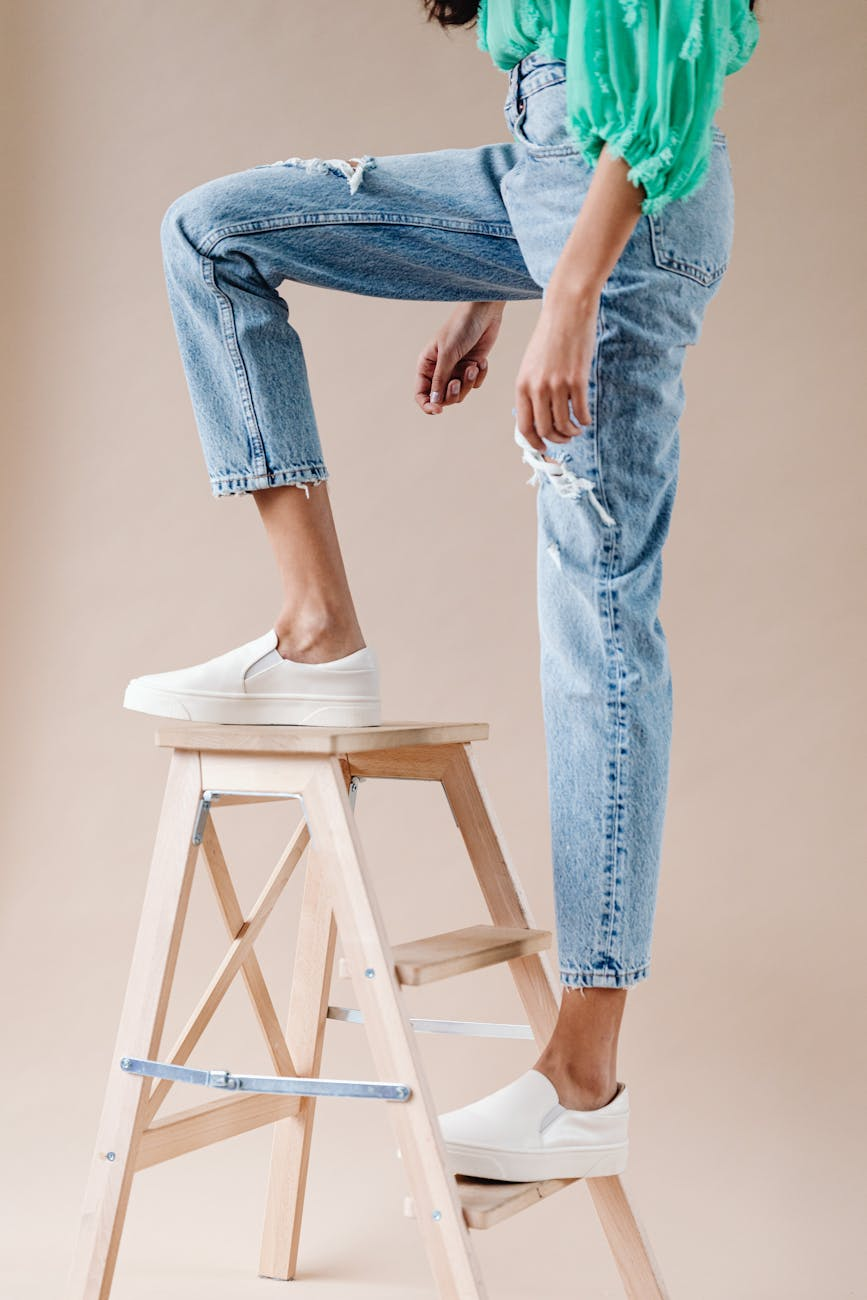ripped_jeans: (517, 359, 687, 1001), (174, 142, 553, 288)
